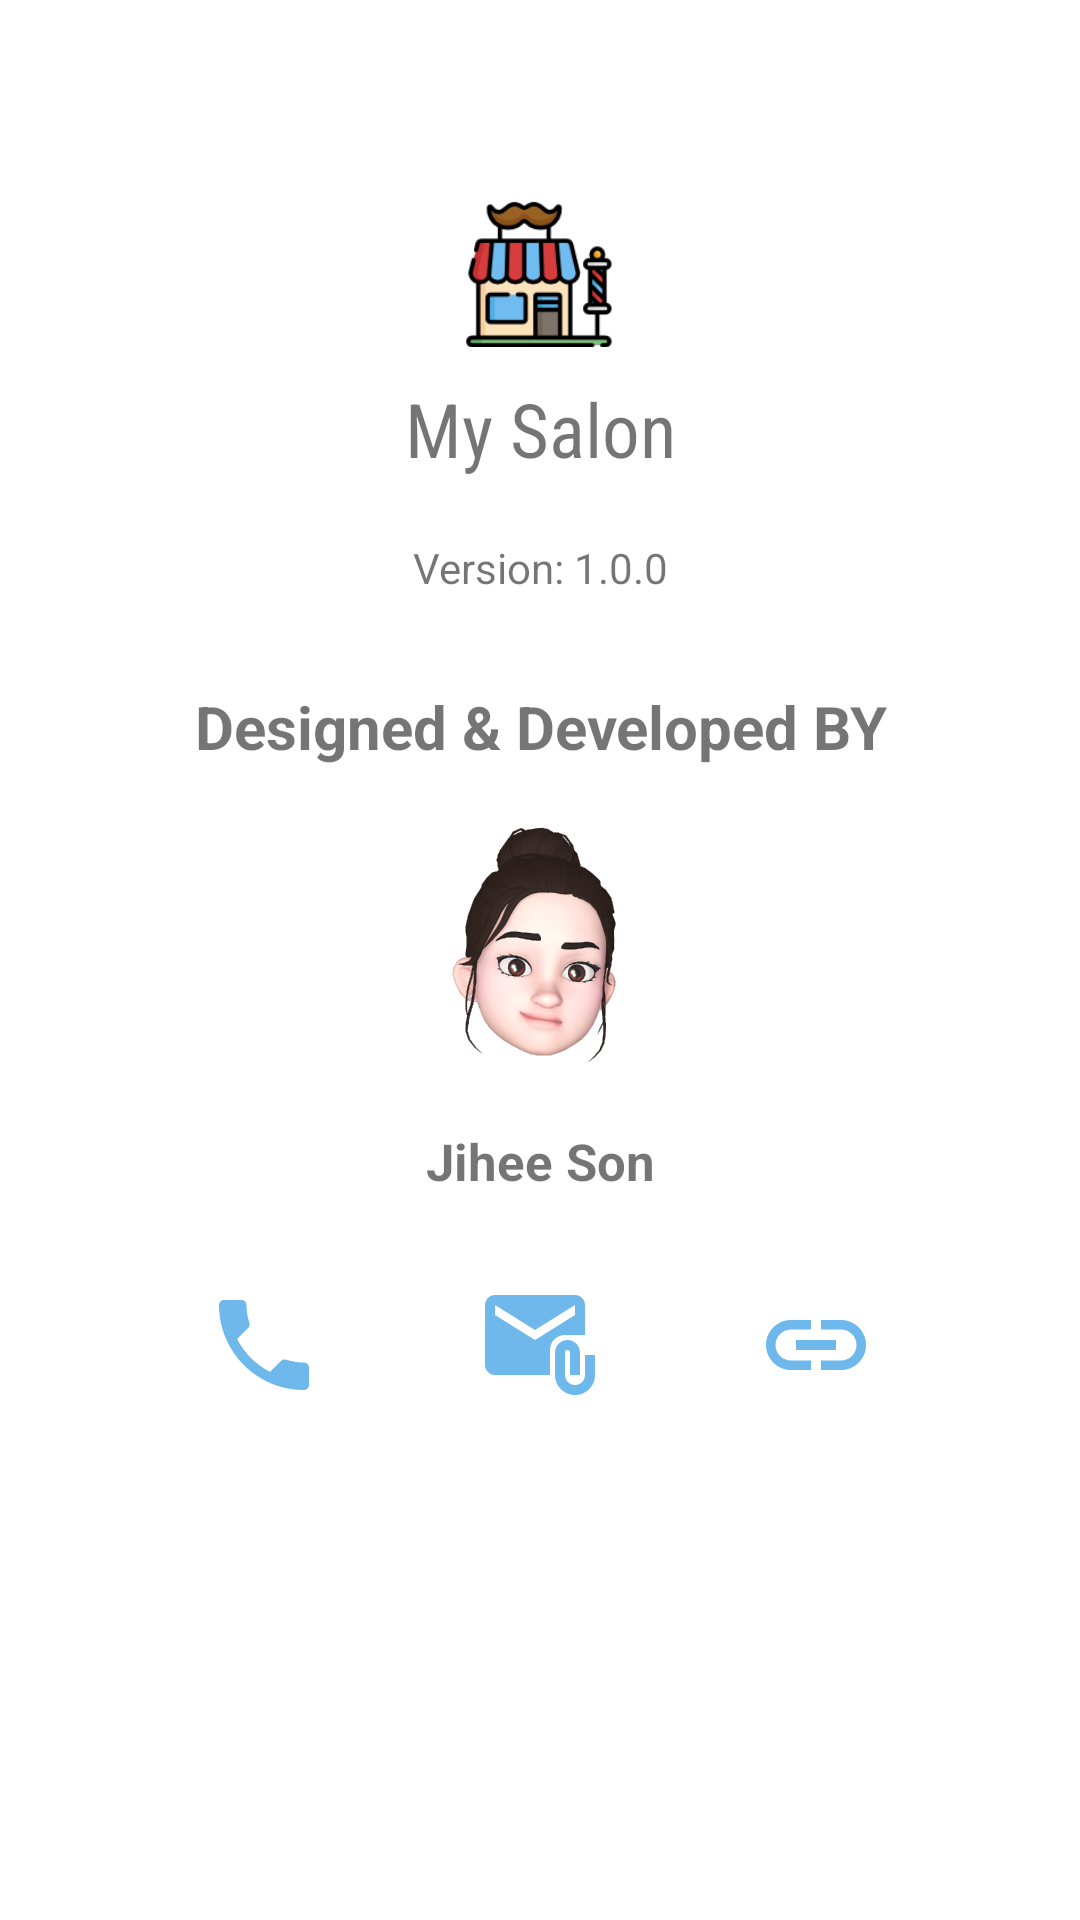

Where icons sit on this 1080x1920 app screen, as (x1, y1, x2, y2):
attach email: (485, 1295, 595, 1395)
emoji: (452, 827, 616, 1062)
insert link: (766, 1320, 866, 1370)
local phone: (219, 1300, 309, 1390)
